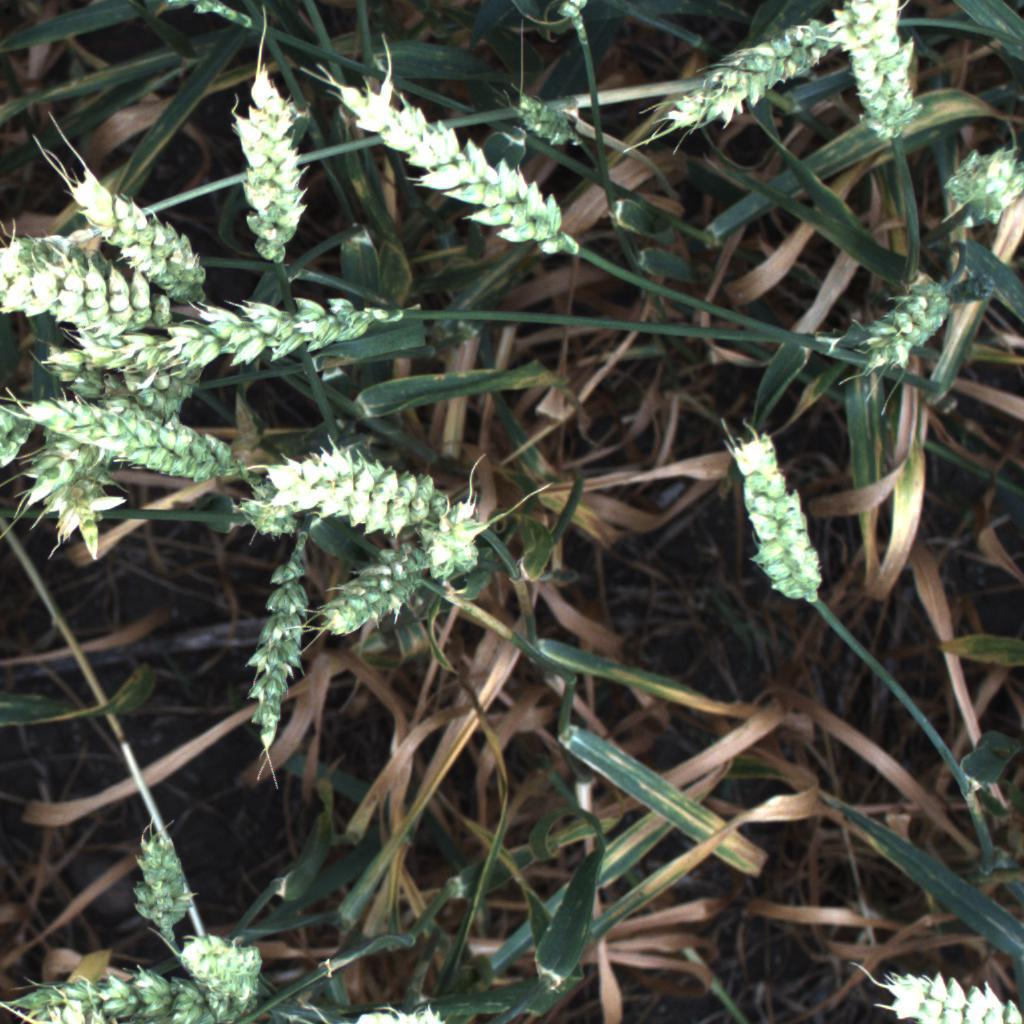0-0: (330, 70, 591, 264), (50, 282, 419, 386), (653, 0, 865, 138), (714, 417, 847, 628), (43, 158, 216, 309), (208, 64, 322, 264), (0, 225, 174, 352), (10, 387, 245, 481), (275, 437, 484, 527), (232, 562, 322, 756), (1, 964, 253, 1024), (845, 252, 959, 383), (836, 0, 932, 153), (314, 534, 441, 645), (111, 808, 204, 955), (877, 963, 1024, 1024), (941, 138, 1024, 246), (174, 930, 266, 1023), (501, 85, 595, 153), (426, 504, 498, 585), (326, 990, 483, 1024), (55, 472, 113, 562), (21, 421, 91, 494), (239, 471, 312, 540), (0, 397, 37, 473)
